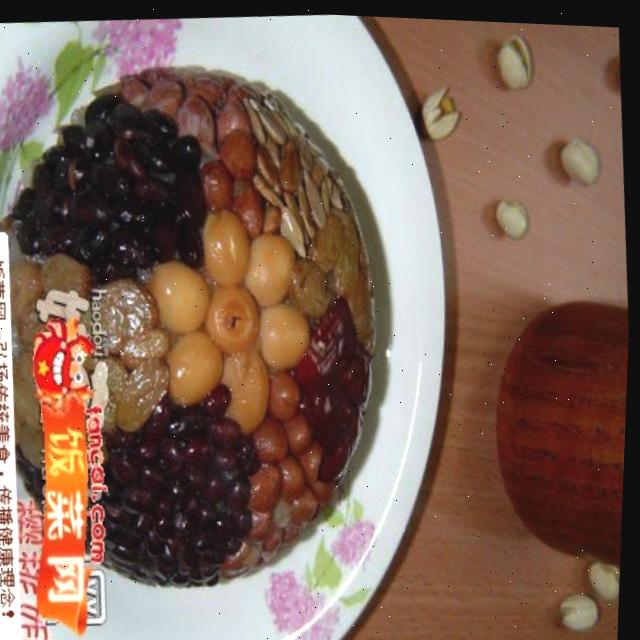米饭主食: (0, 41, 437, 614)
